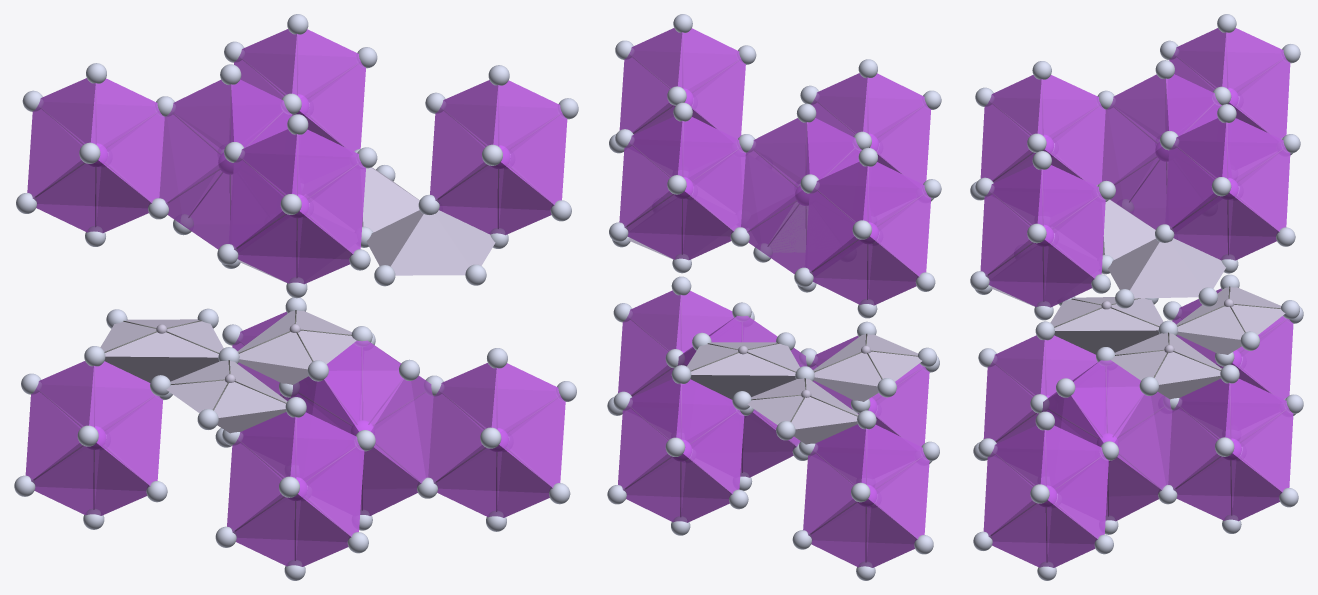
The model's file is KSn2F5.fbx.
3 views of the same model, side by side, from view 1: azimuth 30°, elevation 25°; view 2: azimuth 150°, elevation 25°; view 3: azimuth 270°, elevation 25° (orthographic). The views are drawn at different scales.
Parts seen in each view (by area): view 1: Shape_IndexedFaceSet.079, Shape_IndexedFaceSet.134, Shape_IndexedFaceSet.170, Shape_IndexedFaceSet.110, Shape_IndexedFaceSet.122, Shape_IndexedFaceSet.158, Shape_IndexedFaceSet.146, Shape_IndexedFaceSet.078, Shape_IndexedFaceSet.086, Shape_IndexedFaceSet.161, Shape_IndexedFaceSet.137, Shape_IndexedFaceSet.149 (+101 smaller); view 2: Shape_IndexedFaceSet.070, Shape_IndexedFaceSet.091, Shape_IndexedFaceSet.139, Shape_IndexedFaceSet.151, Shape_IndexedFaceSet.103, Shape_IndexedFaceSet.066, Shape_IndexedFaceSet.115, Shape_IndexedFaceSet.163, Shape_IndexedFaceSet.133, Shape_IndexedFaceSet.097, Shape_IndexedFaceSet.085, Shape_IndexedFaceSet.145 (+92 smaller); view 3: Shape_IndexedFaceSet.118, Shape_IndexedFaceSet.106, Shape_IndexedFaceSet.082, Shape_IndexedFaceSet.094, Shape_IndexedFaceSet.154, Shape_IndexedFaceSet.130, Shape_IndexedFaceSet.065, Shape_IndexedFaceSet.071, Shape_IndexedFaceSet.104, Shape_IndexedFaceSet.080, Shape_IndexedFaceSet.092, Shape_IndexedFaceSet.116 (+103 smaller).
Part boxes in pixels (x1,y1,x2,y2): Shape_IndexedFaceSet.079: [166, 159, 233, 249]; Shape_IndexedFaceSet.134: [98, 110, 164, 202]; Shape_IndexedFaceSet.170: [298, 444, 364, 536]; Shape_IndexedFaceSet.110: [501, 112, 567, 204]; Shape_IndexedFaceSet.122: [499, 395, 565, 487]; Shape_IndexedFaceSet.158: [300, 161, 365, 253]; Shape_IndexedFaceSet.146: [96, 395, 162, 485]; Shape_IndexedFaceSet.078: [159, 111, 225, 202]; Shape_IndexedFaceSet.086: [299, 61, 365, 151]; Shape_IndexedFaceSet.161: [234, 211, 352, 259]; Shape_IndexedFaceSet.137: [33, 160, 151, 208]; Shape_IndexedFaceSet.149: [31, 443, 149, 491]; Shape_IndexedFaceSet.070: [747, 190, 809, 274]; Shape_IndexedFaceSet.091: [685, 147, 745, 231]; Shape_IndexedFaceSet.139: [870, 192, 931, 276]; Shape_IndexedFaceSet.151: [868, 455, 929, 539]; Shape_IndexedFaceSet.103: [683, 410, 744, 493]; Shape_IndexedFaceSet.066: [741, 147, 801, 231]; Shape_IndexedFaceSet.115: [684, 58, 745, 138]; Shape_IndexedFaceSet.163: [870, 104, 931, 184]; Shape_IndexedFaceSet.133: [810, 236, 918, 281]; Shape_IndexedFaceSet.097: [623, 453, 732, 498]; Shape_IndexedFaceSet.085: [625, 191, 733, 236]; Shape_IndexedFaceSet.145: [808, 499, 917, 544]; Shape_IndexedFaceSet.118: [1048, 454, 1108, 539]; Shape_IndexedFaceSet.106: [1044, 194, 1105, 278]; Shape_IndexedFaceSet.082: [1229, 147, 1290, 231]; Shape_IndexedFaceSet.094: [1232, 408, 1293, 492]; Shape_IndexedFaceSet.154: [1044, 104, 1105, 185]; Shape_IndexedFaceSet.130: [1229, 57, 1290, 138]; Shape_IndexedFaceSet.065: [1110, 147, 1169, 229]; Shape_IndexedFaceSet.071: [1102, 104, 1161, 183]; Shape_IndexedFaceSet.104: [986, 239, 1094, 283]; Shape_IndexedFaceSet.080: [1170, 192, 1279, 236]; Shape_IndexedFaceSet.092: [1173, 453, 1282, 497]; Shape_IndexedFaceSet.116: [989, 500, 1097, 544].
Size of the model in its own units: 1633 by 1617 by 1136.
